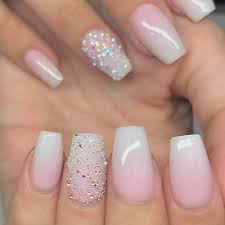nail: (128, 4, 188, 65), (169, 134, 215, 211), (112, 125, 156, 204), (65, 134, 106, 202), (81, 32, 133, 82), (32, 131, 64, 190), (23, 49, 64, 89), (167, 1, 216, 24)
